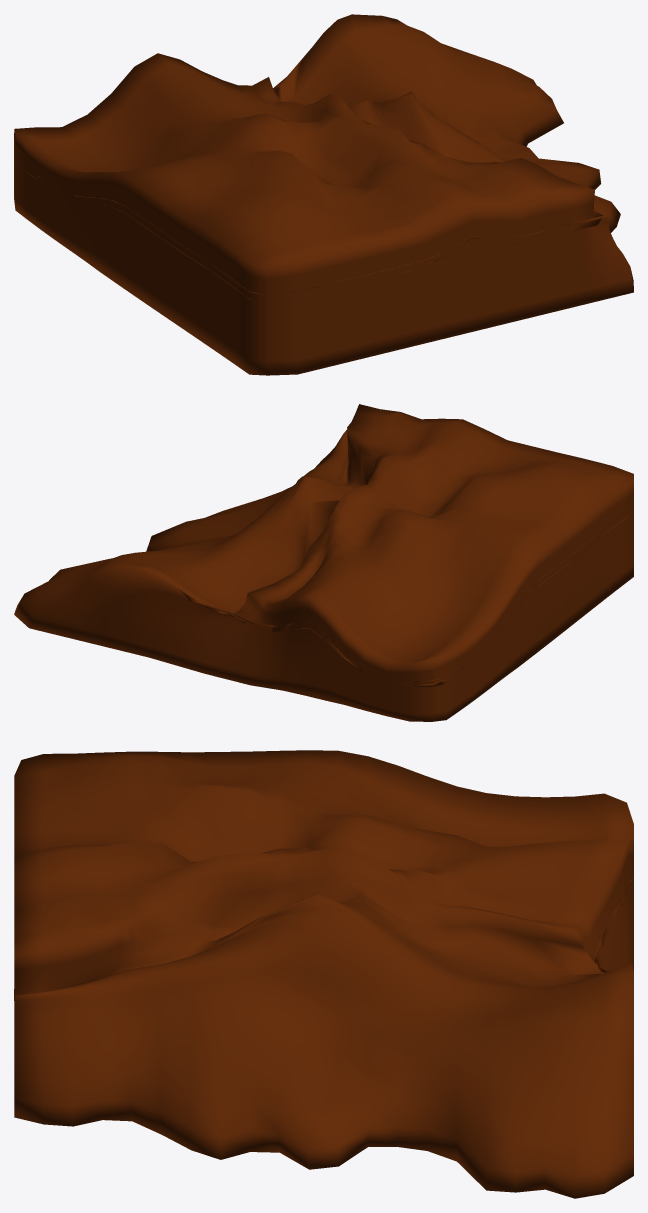
The model's file is chocolate_casi_vacio.fbx.
3 renders of one model, top to bottom at view 1: azimuth 30°, elevation 25°; view 2: azimuth 150°, elevation 25°; view 3: azimuth 270°, elevation 25°, orthographic. The views are drawn at different scales.
Visible parts, largest first — view 1: Chocolate_Casi_Vacio; view 2: Chocolate_Casi_Vacio; view 3: Chocolate_Casi_Vacio.
Part boxes in pixels (x1,y1,x2,y2): Chocolate_Casi_Vacio: [14, 14, 633, 375]; Chocolate_Casi_Vacio: [14, 404, 633, 721]; Chocolate_Casi_Vacio: [14, 750, 633, 1198].
Bounding box in the file's own units: 224 × 62.49 × 189.
